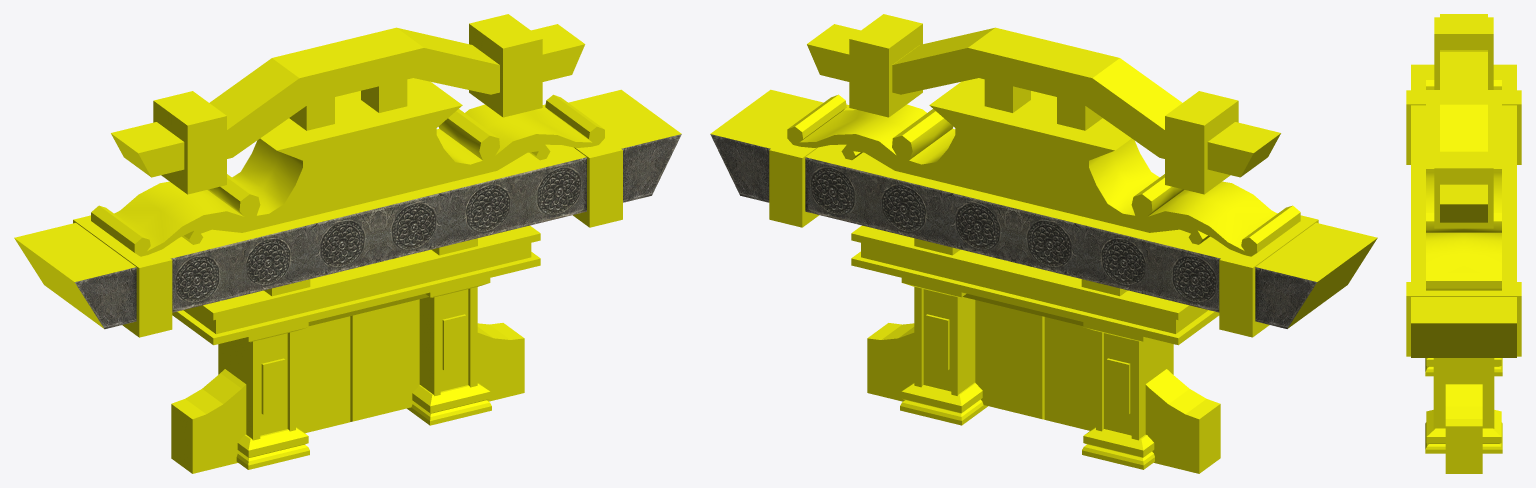
File: 4st_gate_002.glb
3 renders of one model, left to right at view 1: azimuth 30°, elevation 25°; view 2: azimuth 150°, elevation 25°; view 3: azimuth 270°, elevation 25°, orthographic. The views are drawn at different scales.
Parts seen in each view (by area): view 1: 2st_gate_002; view 2: 2st_gate_002; view 3: 2st_gate_002.
Boxes of the visible parts, left/top/right/bottom form: 2st_gate_002: left=14, top=14, right=681, bottom=473; 2st_gate_002: left=710, top=14, right=1377, bottom=473; 2st_gate_002: left=1406, top=14, right=1521, bottom=473.
Size of the model in its own units: 23.01 by 13.5 by 4.34.
3 materials, 3 textured.
